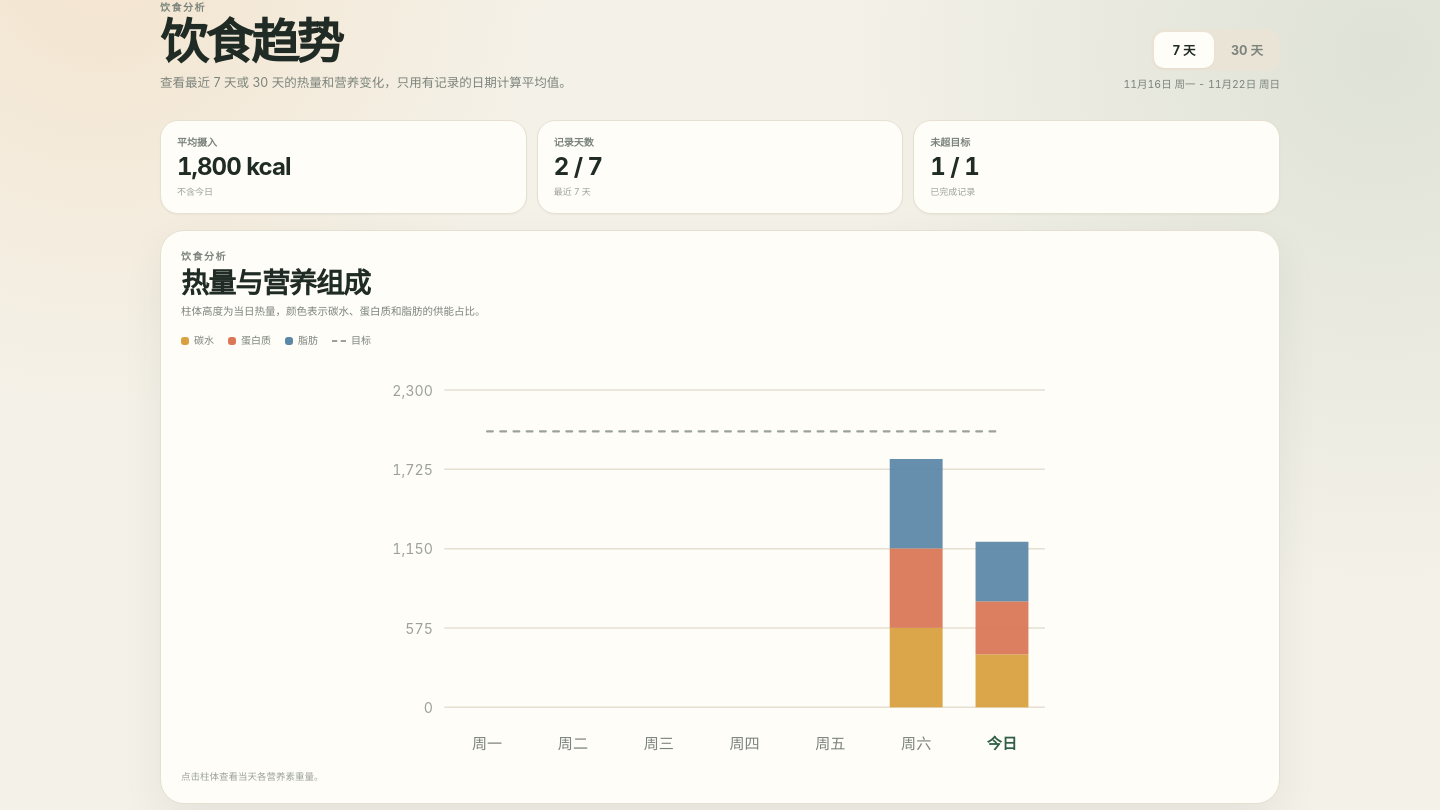
it: TrendsPage › keeps the previous content visible while switching ranges
Later steps or results of the test are not shown.
Click the button "30 天".
click(1247, 50)  # box [1217,32,1277,68]
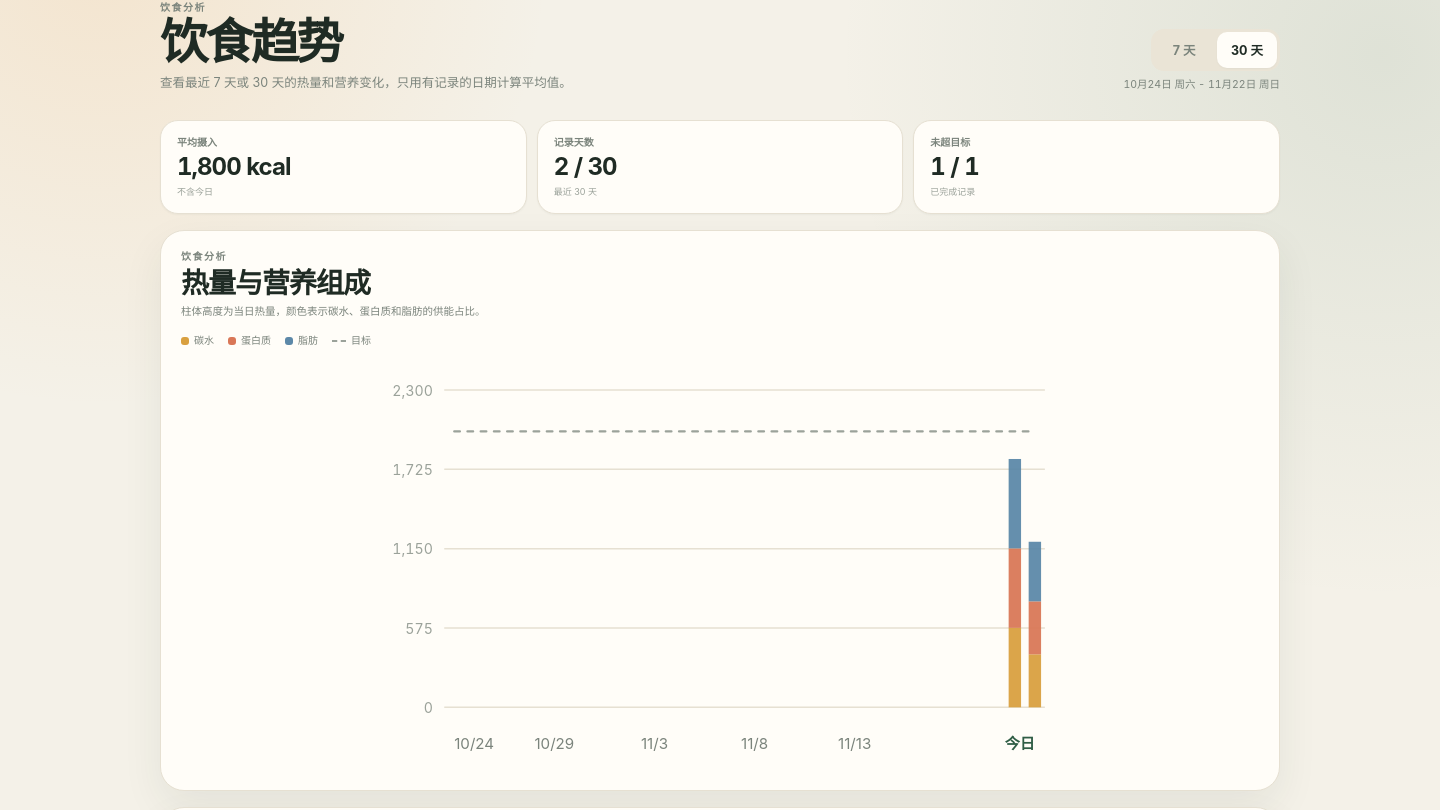
Now the text "点击柱体查看当天各营养素重量。" is gone
